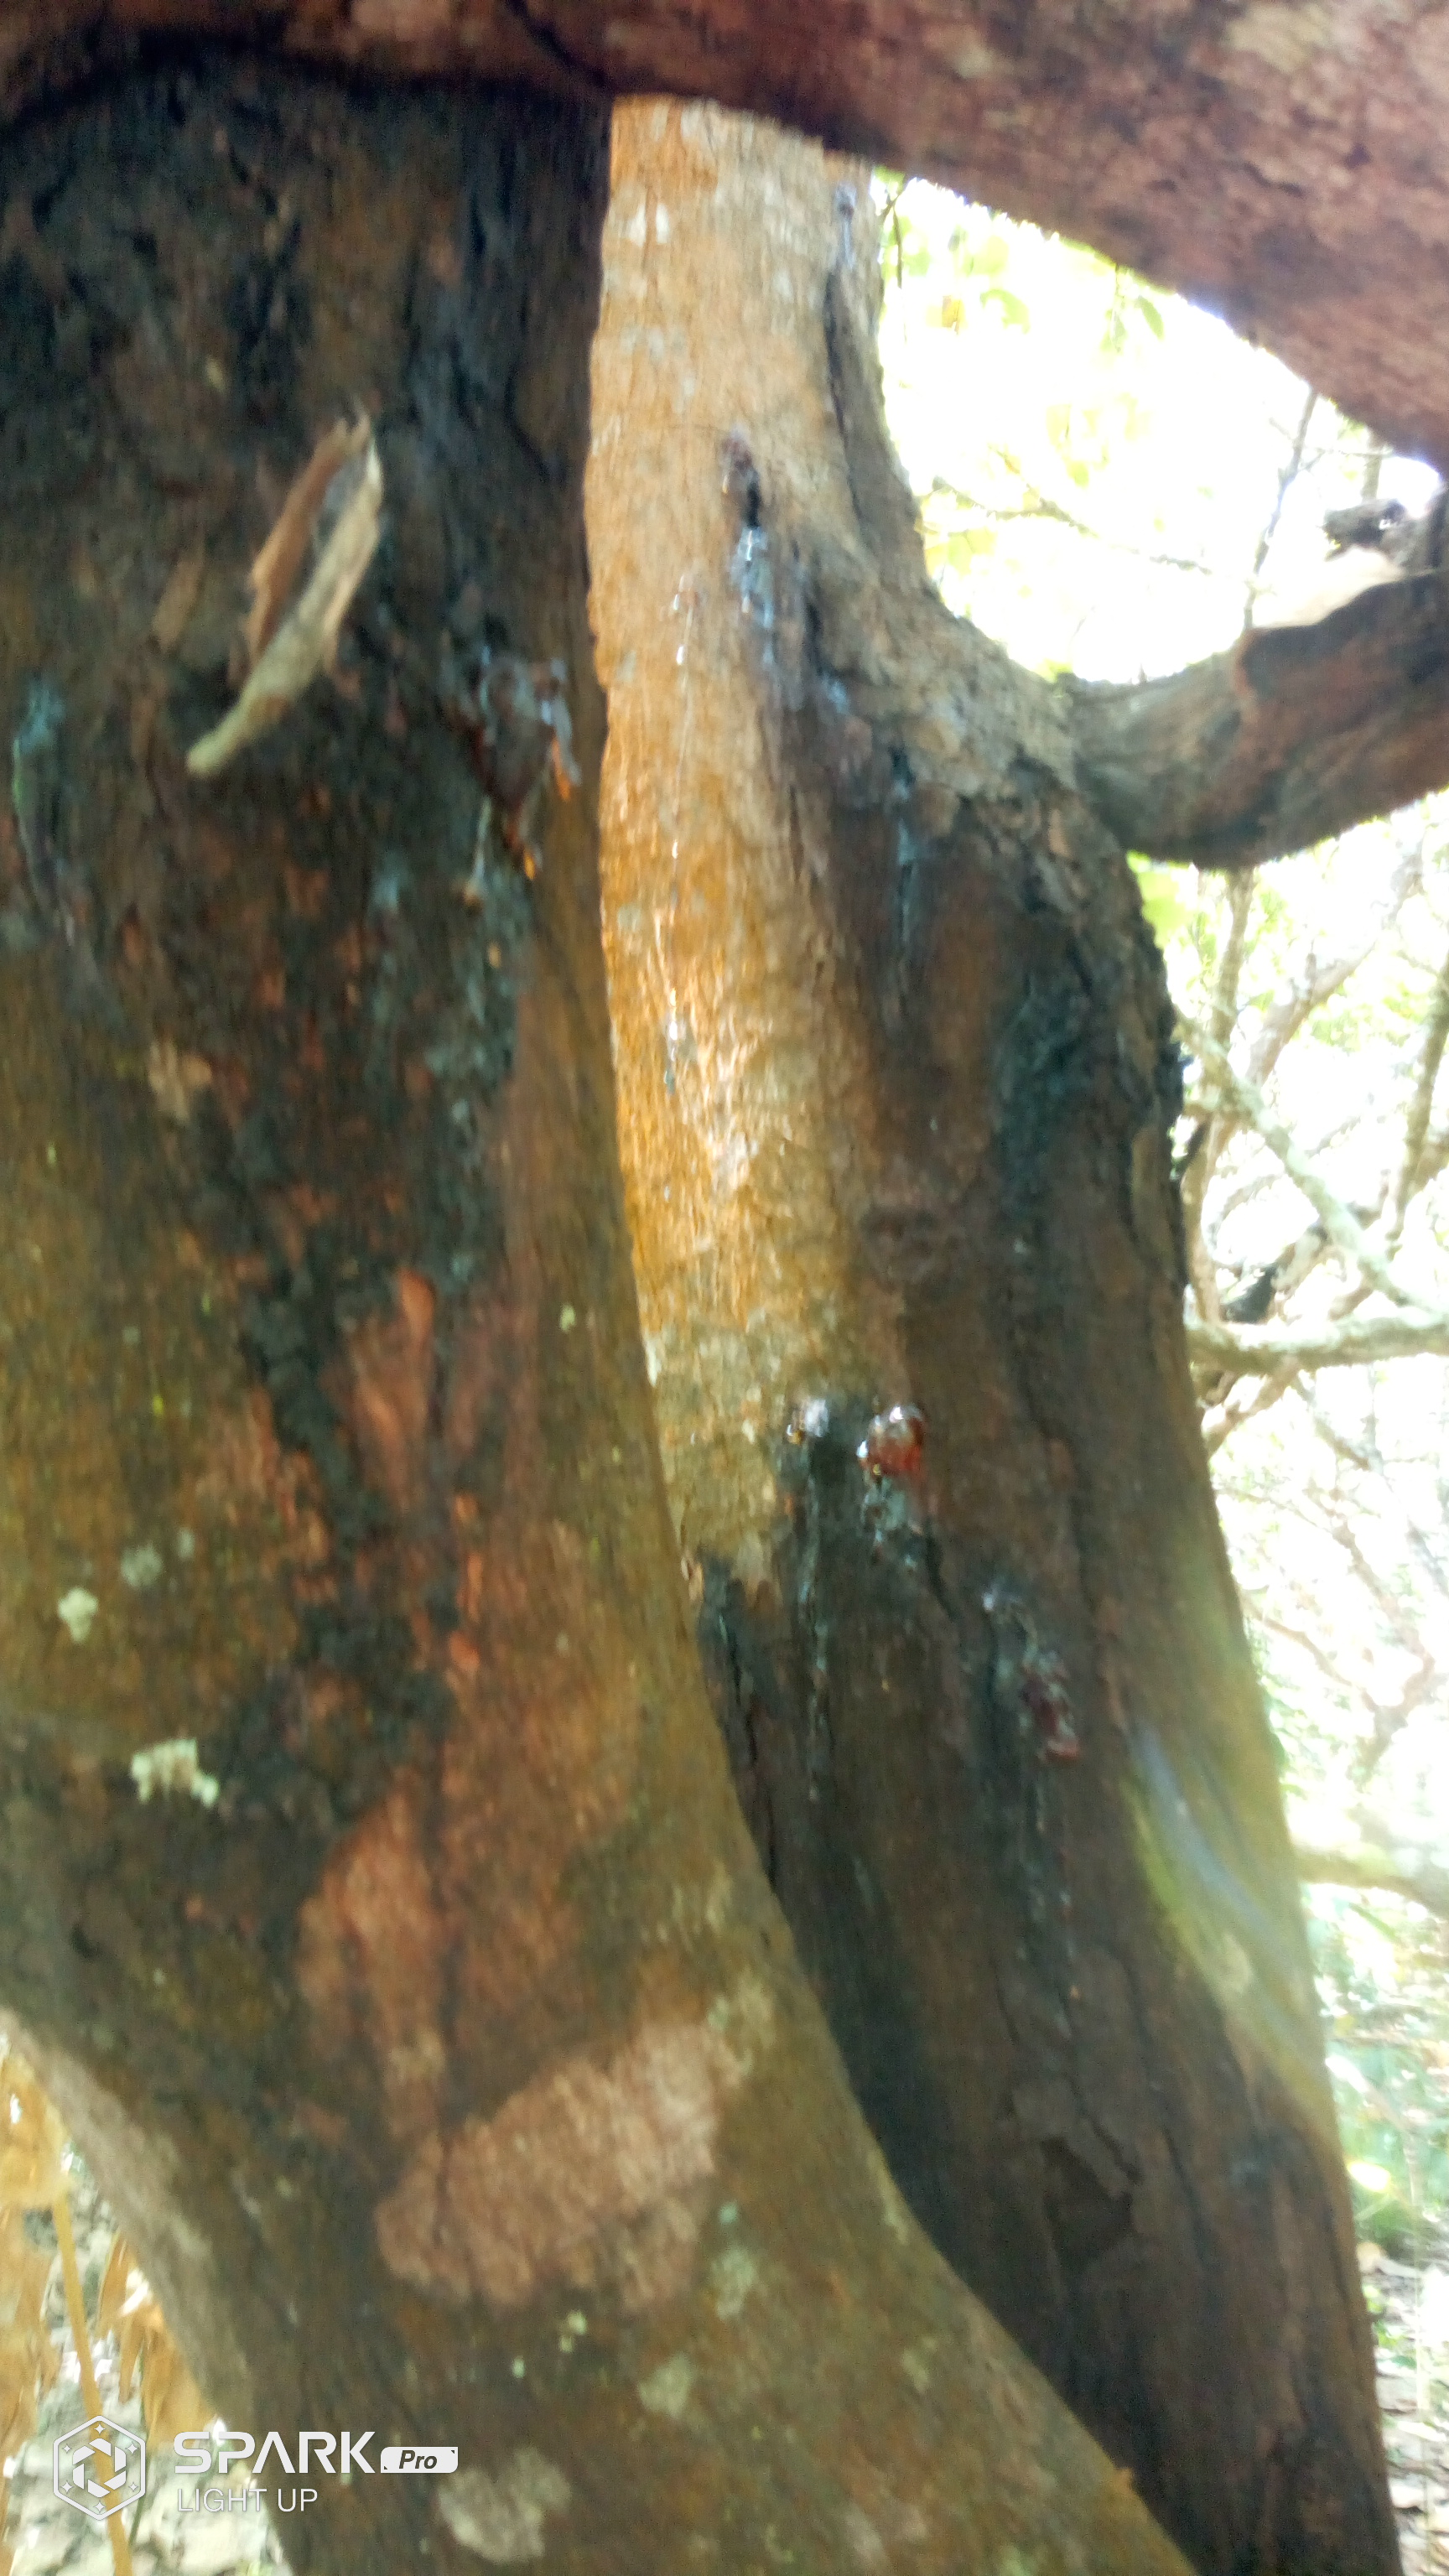Mecocorynus longiceps: (225, 485, 669, 1396), (660, 1352, 1047, 1927)
